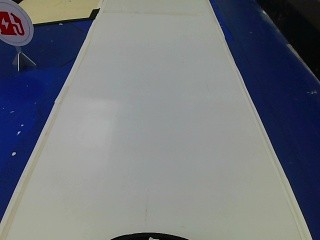battery: (0, 0, 32, 48)
